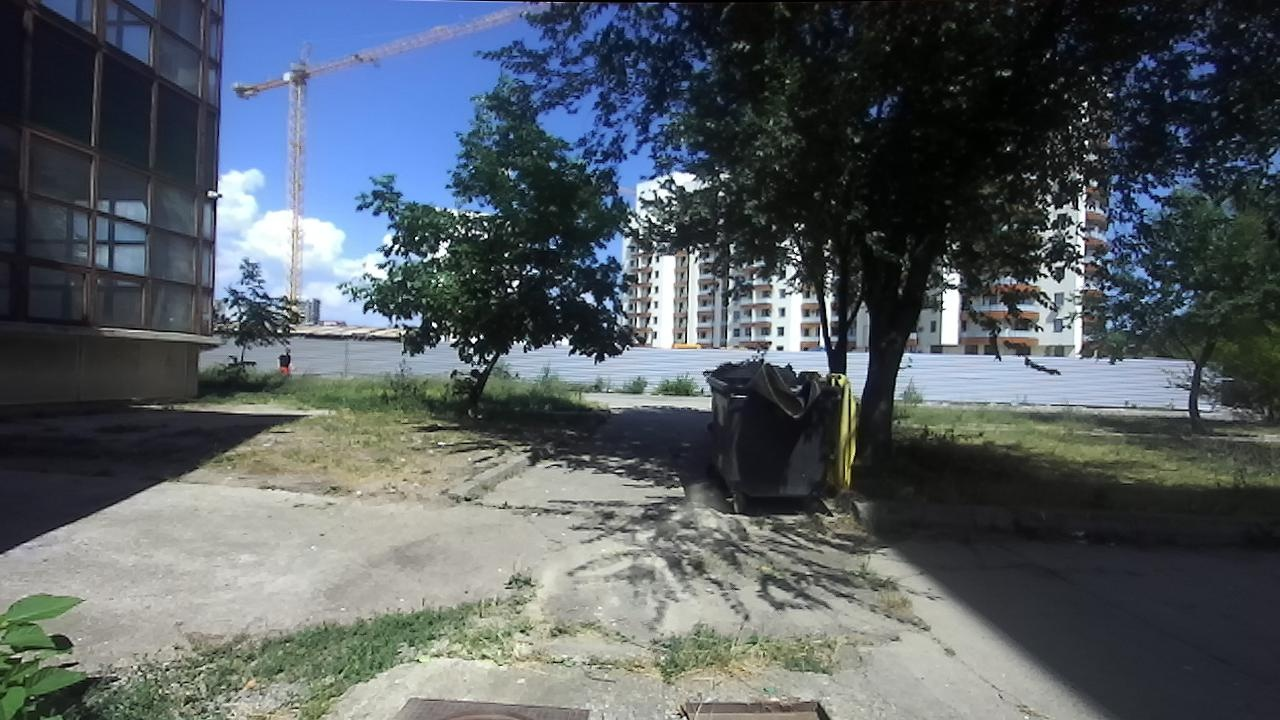drain: (675, 696, 834, 719)
